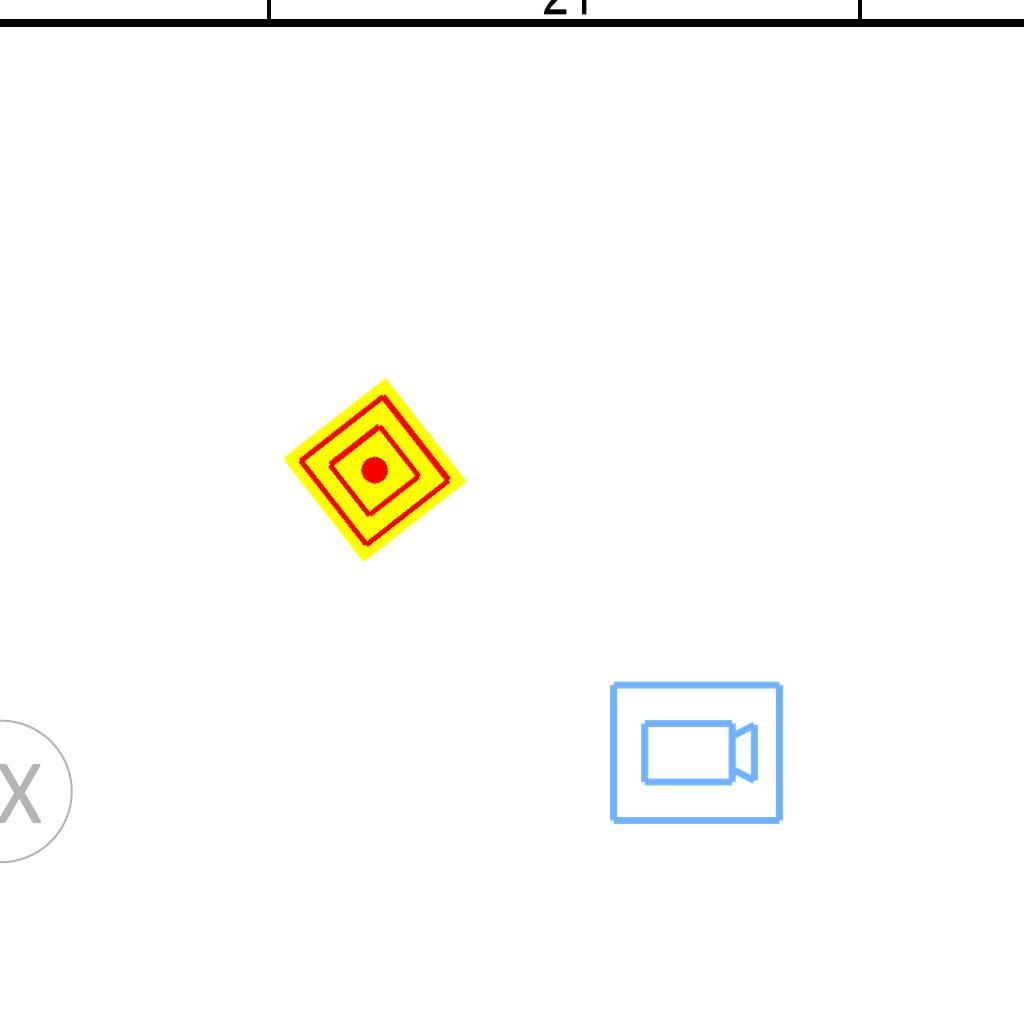KFO_Kamera_mit_Festobjektiv: (605, 677, 787, 831)
NAM-Nichtautomatischer_Melder: (282, 377, 468, 563)
